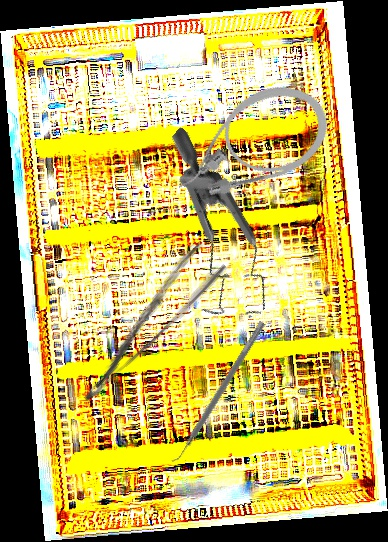Cannula: (156, 70, 342, 215)
Dressing Forceps: (57, 238, 231, 407)
Spatula Surgical: (168, 317, 266, 467)
Speculum: (99, 126, 321, 340)
